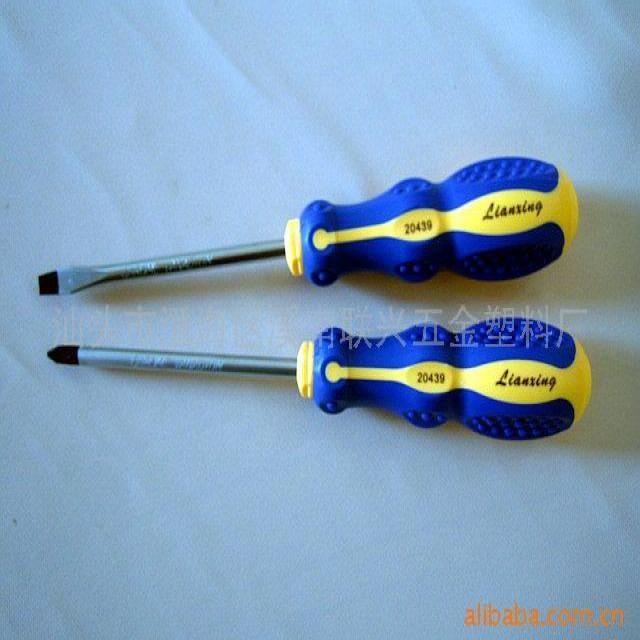screwdriver: (23, 142, 584, 312), (39, 318, 604, 449)
